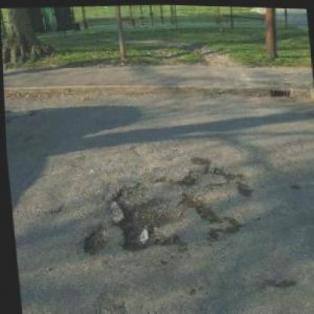Hueco: (106, 173, 185, 254), (180, 189, 219, 222), (78, 224, 108, 254)
